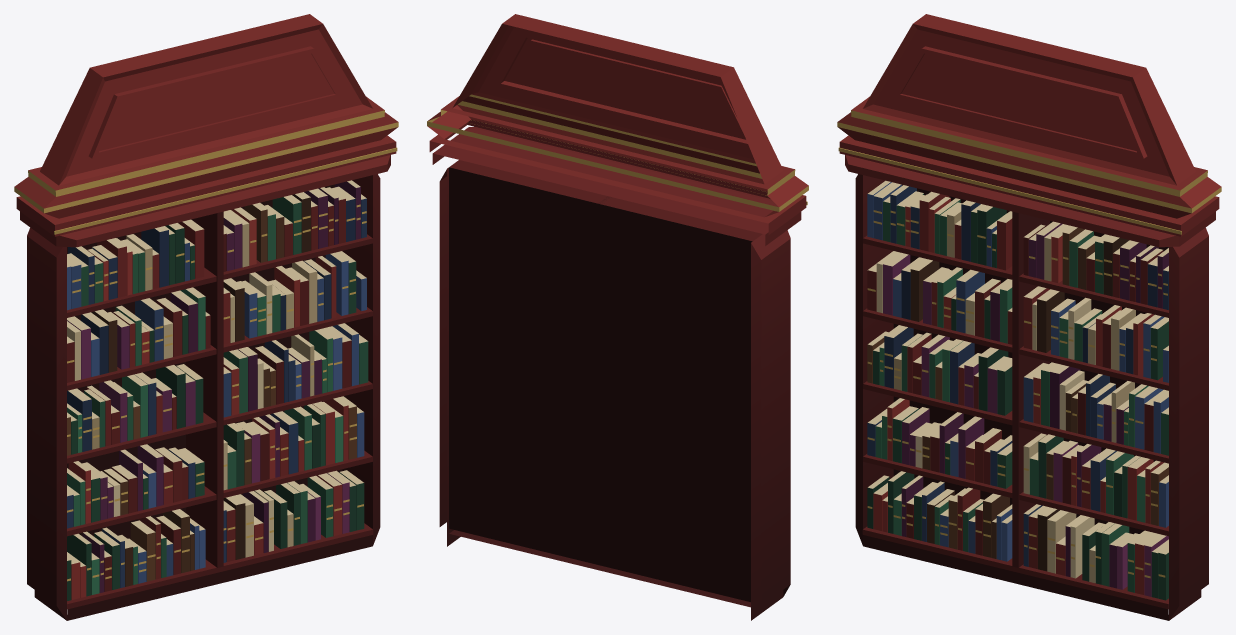
The model's file is SM_RareBookcase_Tall_2m_Filled.fbx.
3 views of the same model, side by side, from view 1: azimuth 30°, elevation 25°; view 2: azimuth 150°, elevation 25°; view 3: azimuth 330°, elevation 25° (orthographic).
Parts seen in each view (by area): view 1: SM_RareBookcase_Tall_2m_Filled; view 2: SM_RareBookcase_Tall_2m_Filled; view 3: SM_RareBookcase_Tall_2m_Filled.
Part boxes in pixels (x1=…): SM_RareBookcase_Tall_2m_Filled: x1=14, y1=14, x2=398, y2=620; SM_RareBookcase_Tall_2m_Filled: x1=427, y1=14, x2=808, y2=620; SM_RareBookcase_Tall_2m_Filled: x1=837, y1=14, x2=1221, y2=620.
Bounding box in the file's own units: 2.2 × 3.13 × 0.4804.
